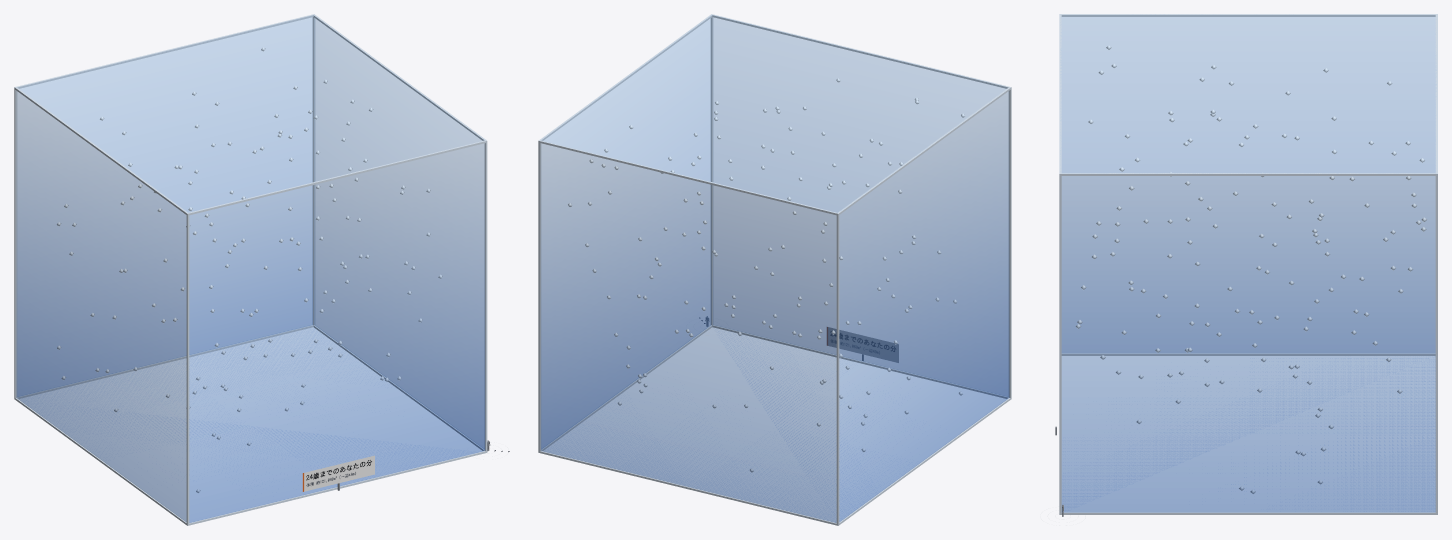
File: cube_life_24.glb
The picture shows the model from 3 angles, left to right: view 1: azimuth 30°, elevation 25°; view 2: azimuth 150°, elevation 25°; view 3: azimuth 270°, elevation 25°; orthographic projection. The views are drawn at different scales.
Parts seen in each view (by area): view 1: co2, edge, dots, label; view 2: co2, edge, dots, label; view 3: co2, edge, dots.
Boxes of the visible parts, x1,y1,x2,y2 form: co2: [16, 15, 484, 522]; edge: [14, 14, 487, 525]; dots: [57, 47, 442, 493]; label: [302, 455, 374, 491]; co2: [541, 15, 1009, 522]; edge: [538, 14, 1011, 525]; dots: [568, 78, 965, 472]; label: [827, 327, 898, 362]; co2: [1061, 15, 1436, 512]; edge: [1059, 14, 1437, 514]; dots: [1075, 45, 1426, 494].
Bounding box in the file's own units: 53.18 × 49.47 × 52.28.
8 materials, 3 textured.
